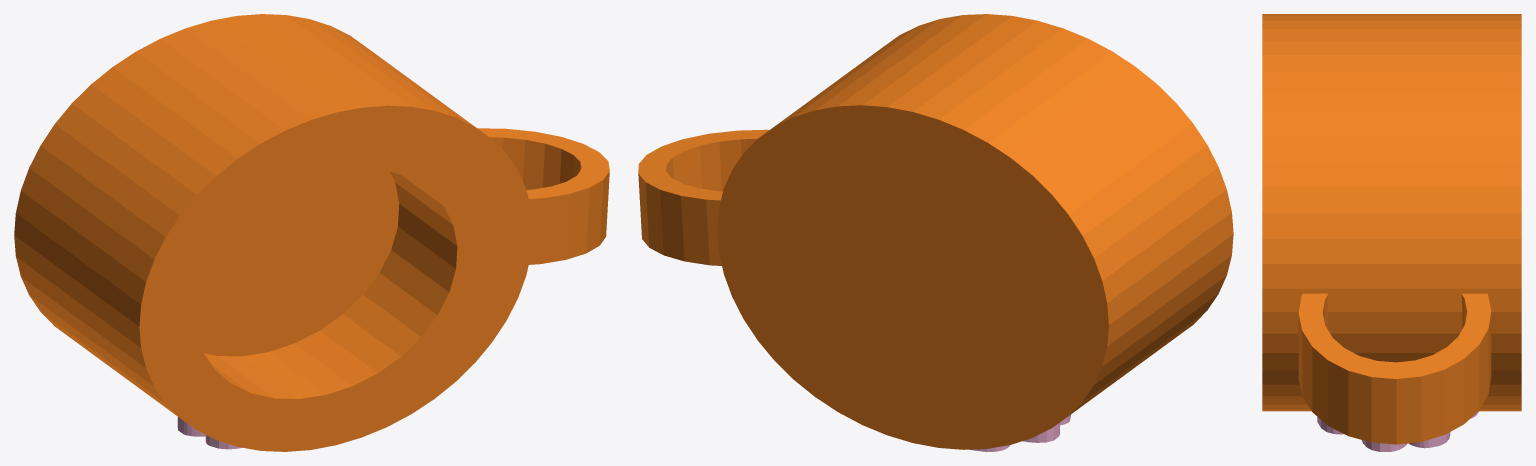
Rendered from tinker.obj.
3 renders of one model, left to right at view 1: azimuth 30°, elevation 25°; view 2: azimuth 150°, elevation 25°; view 3: azimuth 270°, elevation 25°, orthographic. The views are drawn at different scales.
Visible parts, largest first — view 1: group_0_16089887; view 2: group_0_16089887; view 3: group_0_16089887, group_0_15708628.
Part boxes in pixels (x1=…): group_0_16089887: x1=14, y1=14, x2=609, y2=451; group_0_16089887: x1=638, y1=14, x2=1233, y2=449; group_0_16089887: x1=1262, y1=14, x2=1521, y2=444; group_0_15708628: x1=1317, y1=411, x2=1478, y2=451.
Bounding box in the file's own units: 104 × 66 × 43.
